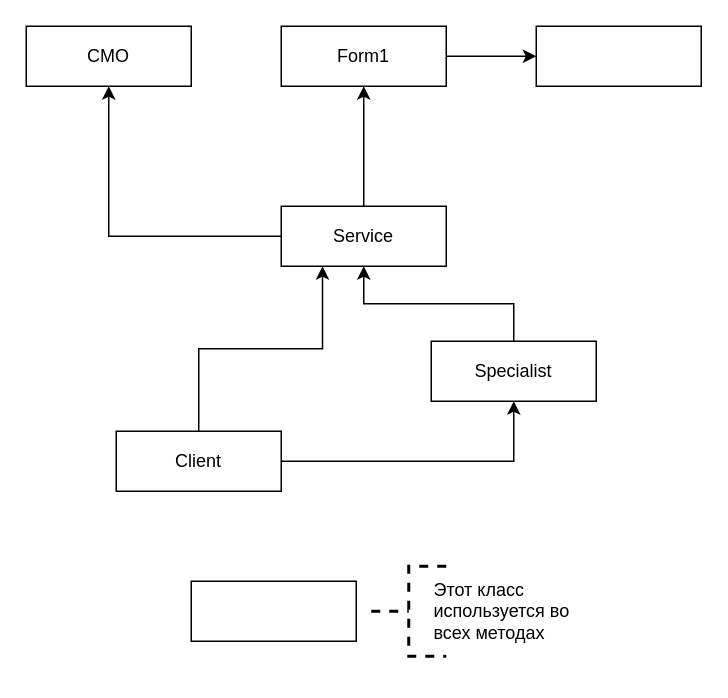
Some shapes in this 728 by 698 pixel diagram are drawn without their labels. Here are the shapes that lost their labels. From the top down, the centre of each, then its label:
(618,55): Form3
(273,610): Time
